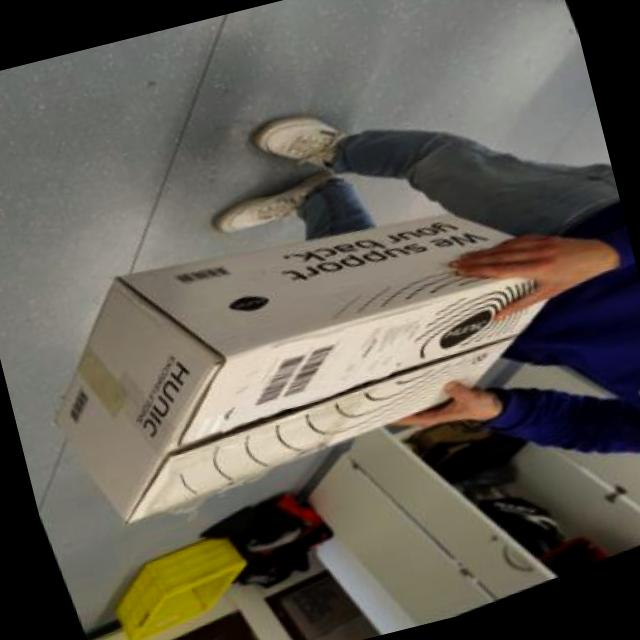box: (0, 113, 620, 561)
